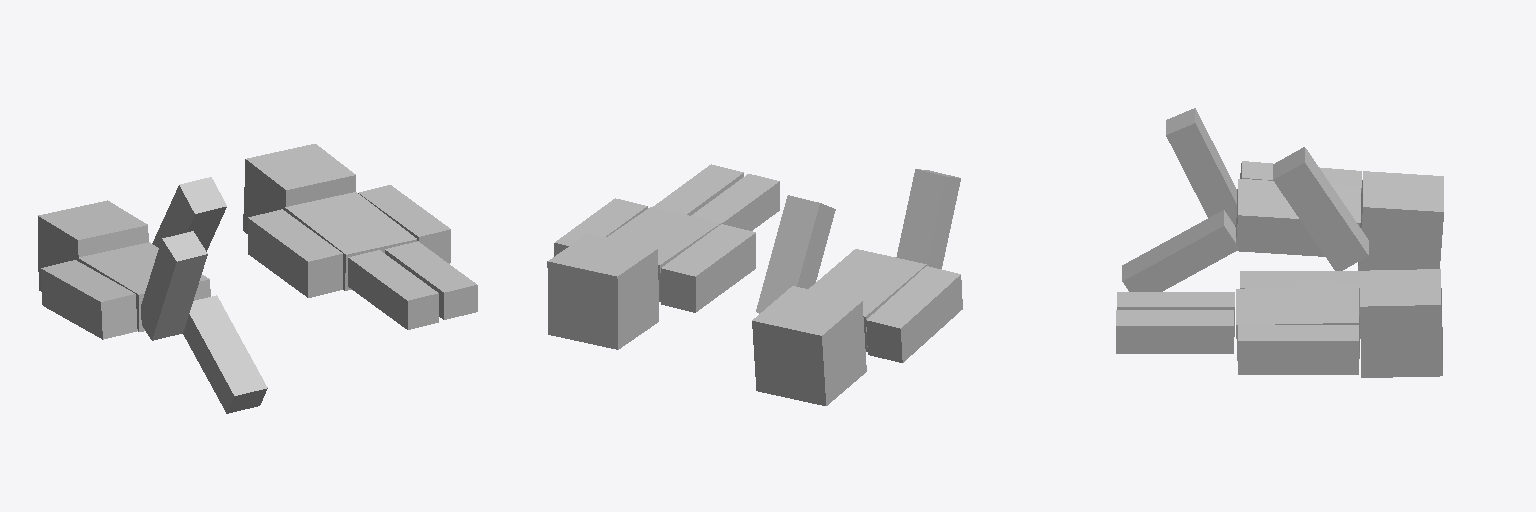
File: steve_000021.obj
3 renders of one model, left to right at view 1: azimuth 30°, elevation 25°; view 2: azimuth 150°, elevation 25°; view 3: azimuth 270°, elevation 25°, orthographic.
Parts seen in each view (by area): view 1: Cube.001_Cube.002, Cube_Cube.001; view 2: Cube_Cube.001, Cube.001_Cube.002; view 3: Cube.001_Cube.002, Cube_Cube.001.
Part boxes in pixels (x1,y1,x2,y2): Cube.001_Cube.002: (243, 144, 477, 329); Cube_Cube.001: (38, 177, 267, 413); Cube_Cube.001: (752, 169, 962, 405); Cube.001_Cube.002: (547, 164, 779, 349); Cube.001_Cube.002: (1116, 269, 1442, 377); Cube_Cube.001: (1122, 108, 1443, 291).
Size of the model in its own units: 6.55 by 2.94 by 5.36.